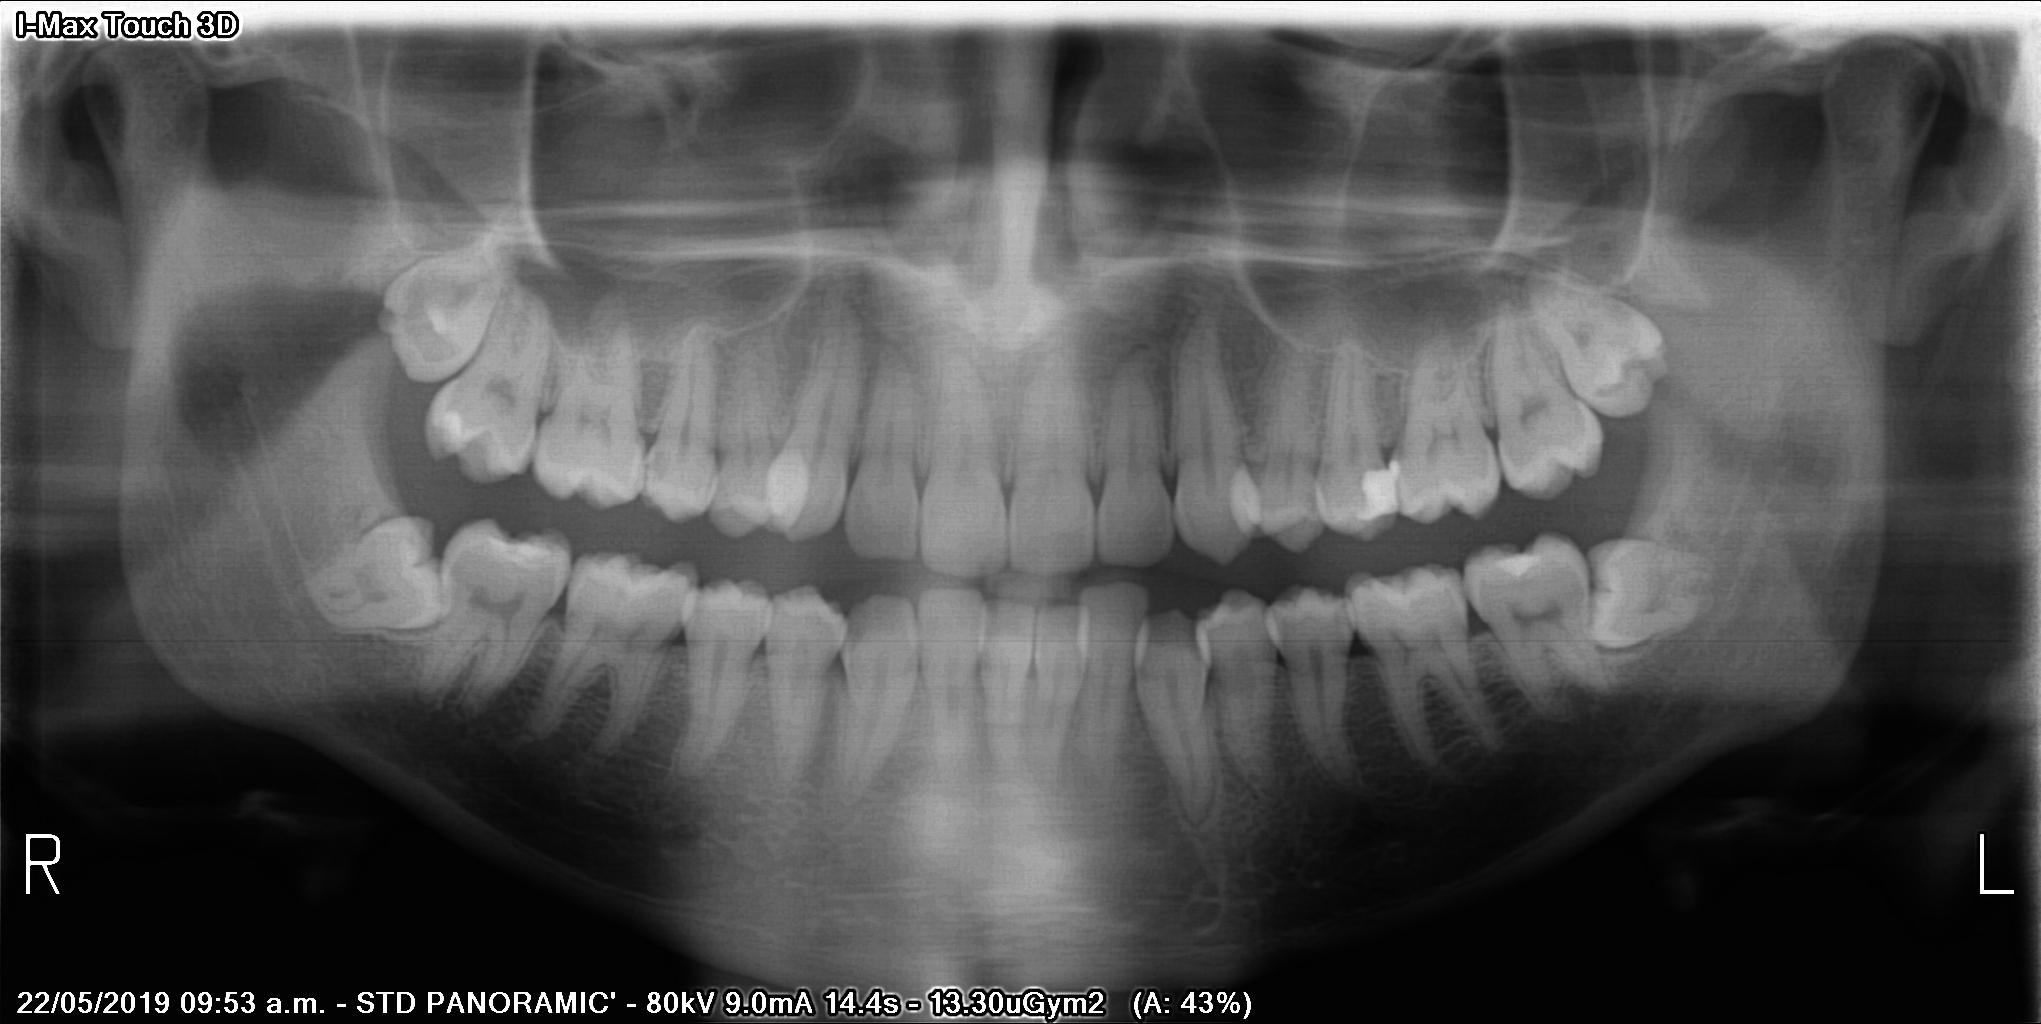Çürük: (1354, 458, 1409, 517)
